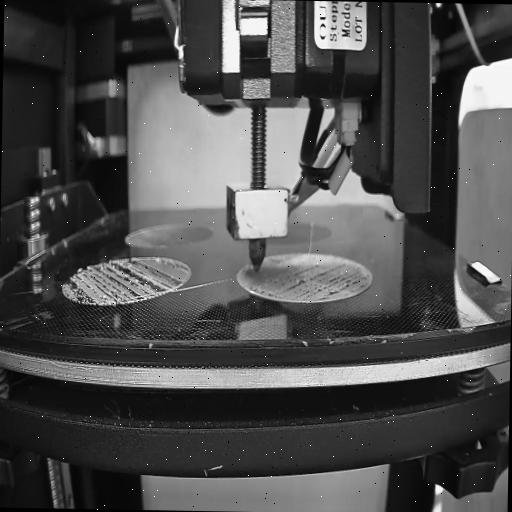under_extrusion: (64, 252, 188, 308), (278, 269, 367, 296), (248, 274, 276, 296)
